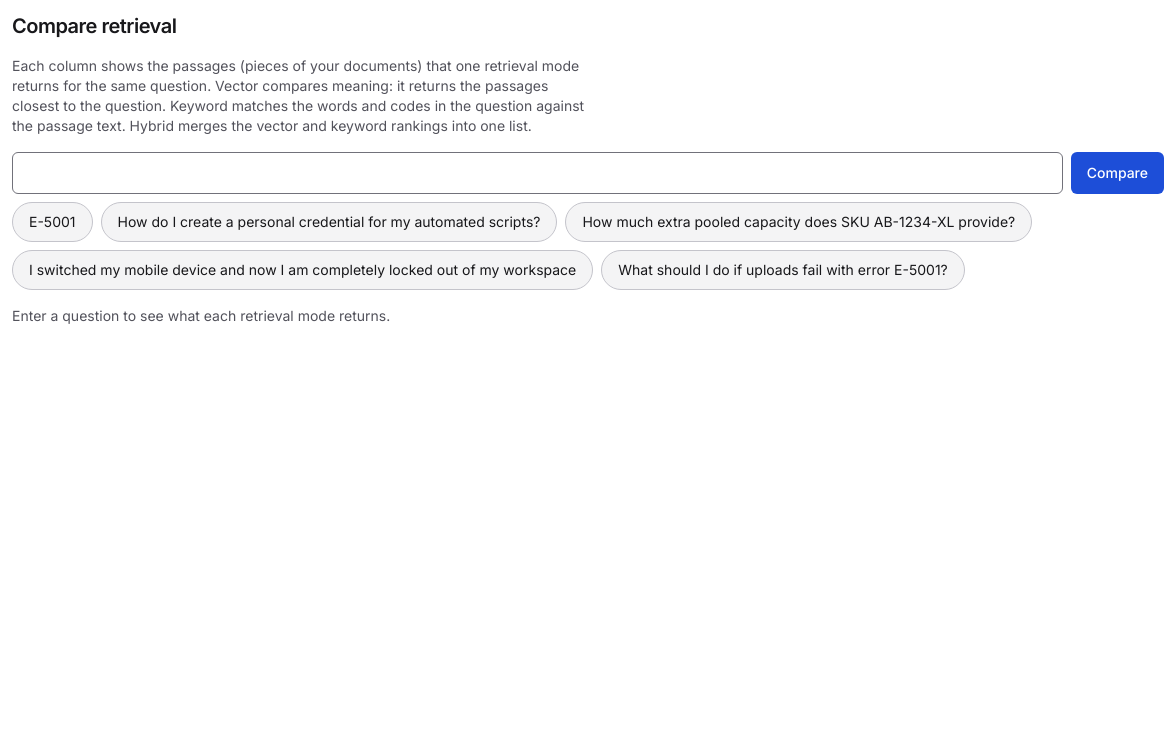
Scenario: a failed search is not cached: Try again really searches again
Type "refunds" into the search field named "Search query". click: coordinates (537, 173)
box: [12, 152, 1063, 194]
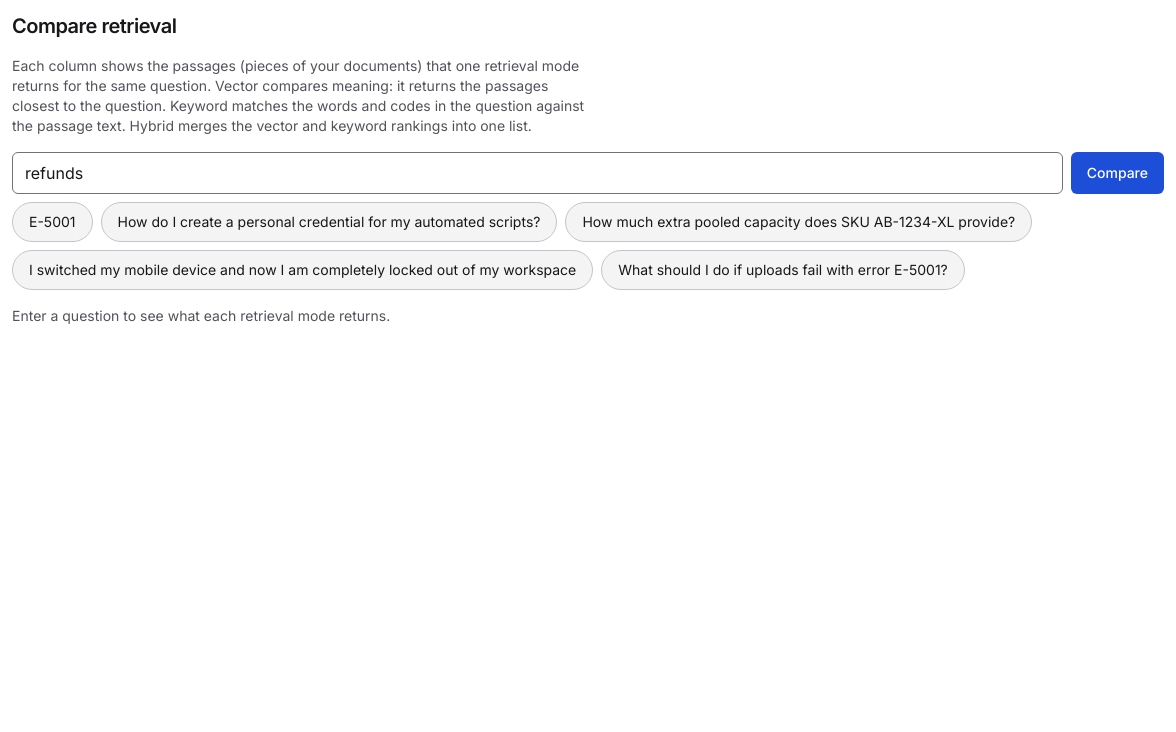
Click the button "Compare". click: coordinates (1117, 173)
box: [1071, 152, 1164, 194]
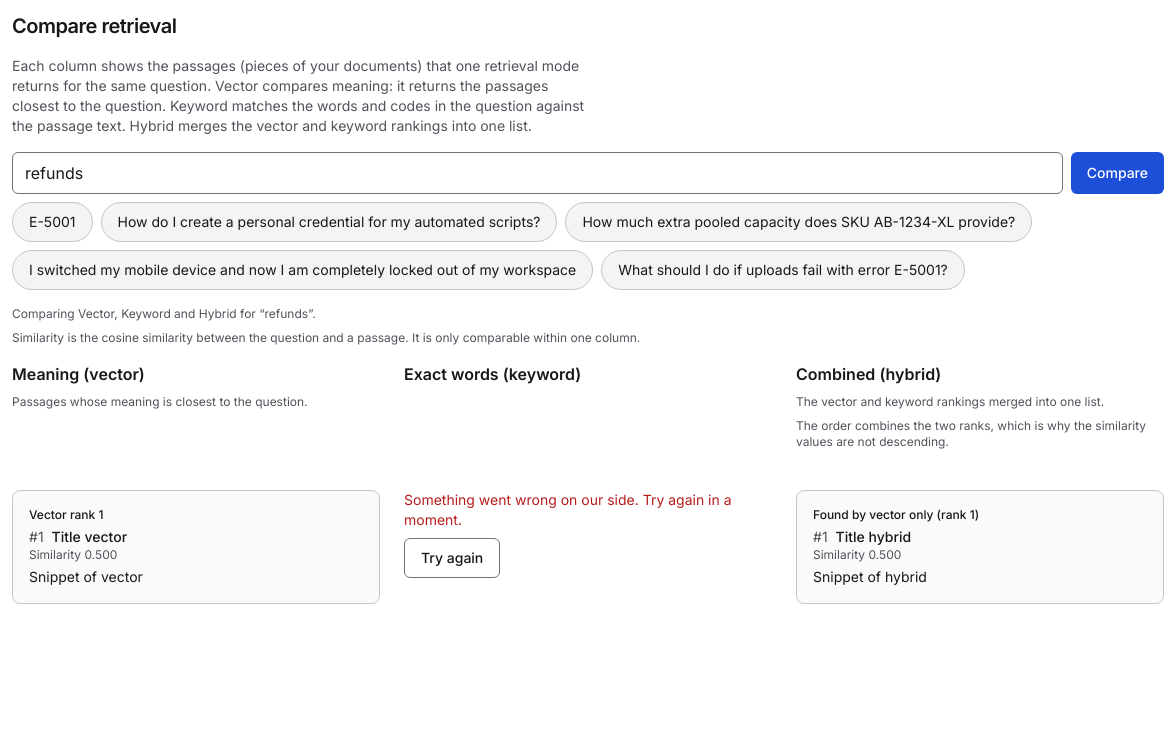
Click the button with aria-label "Retry Keyword". click: coordinates (452, 558)
box: [404, 538, 500, 578]
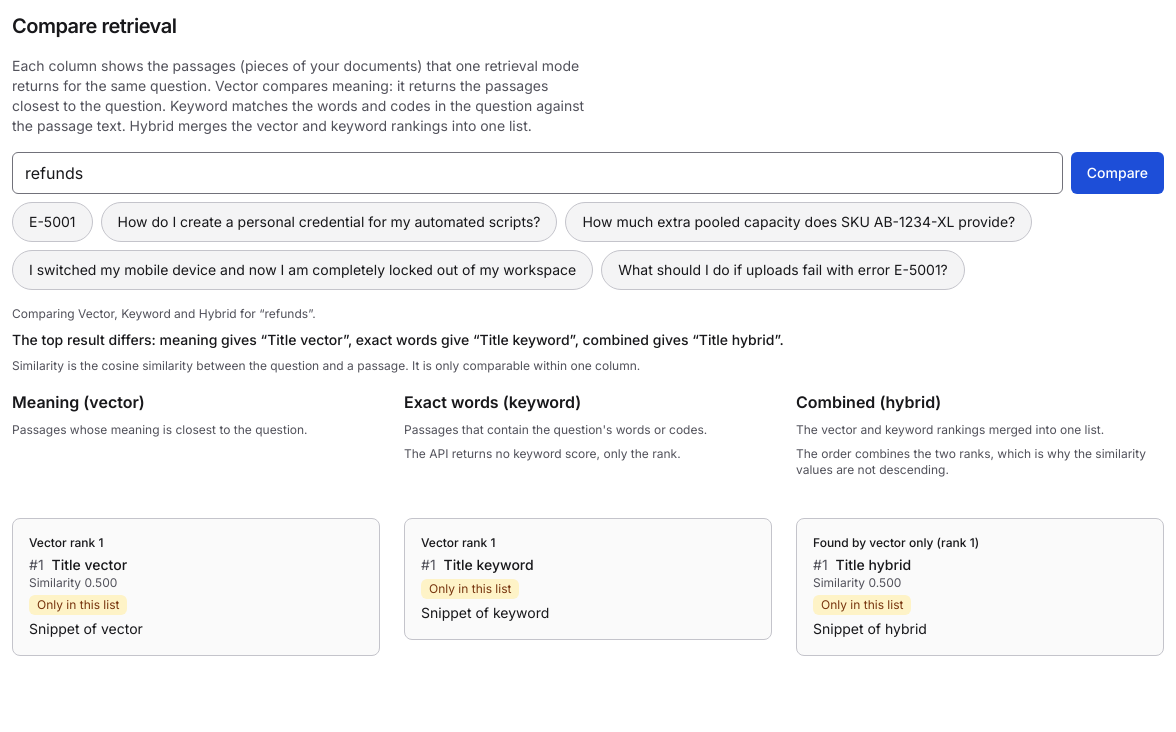
Result: the list named "Keyword results" is shown at [404, 518, 772, 640]
